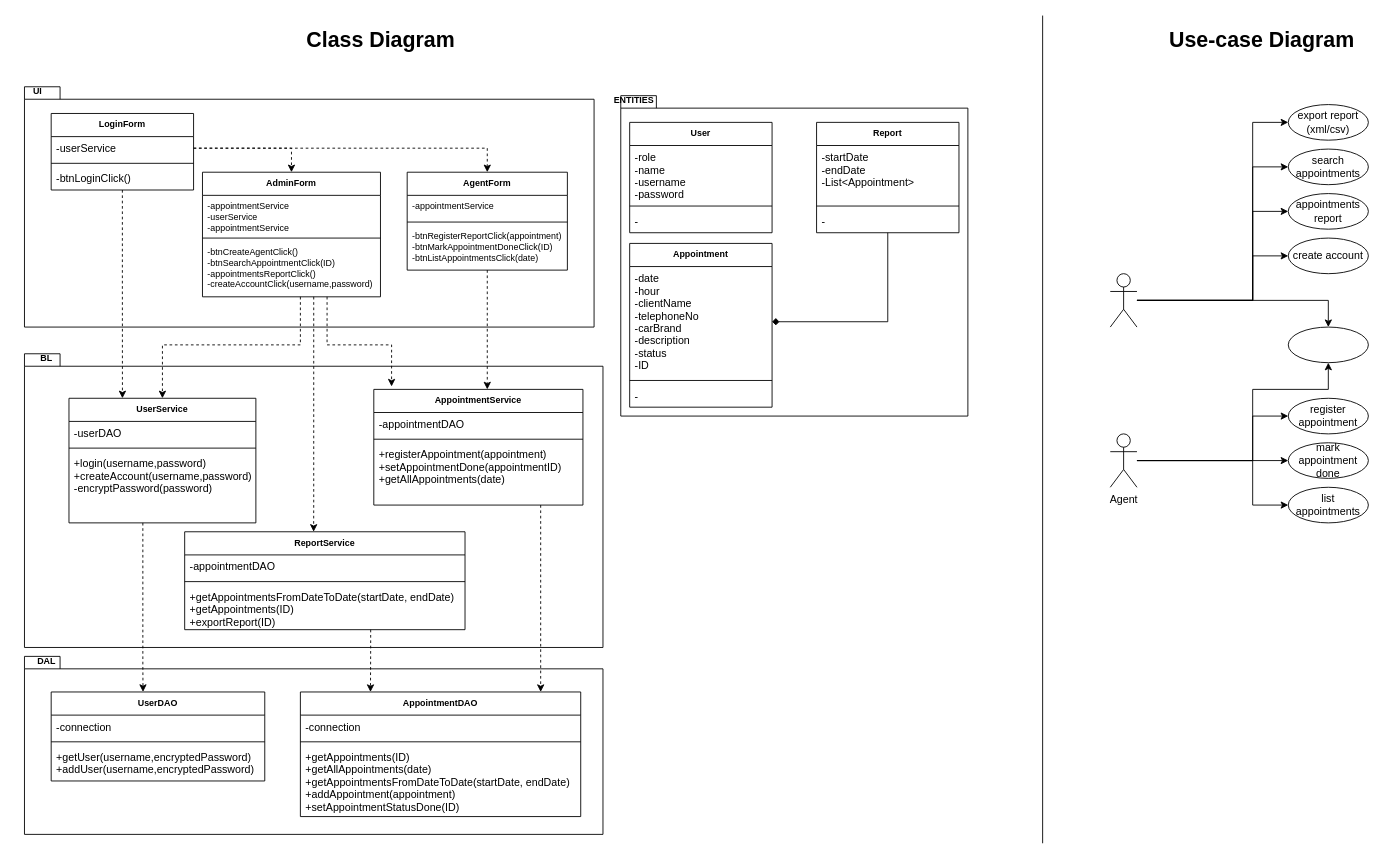
This 1384x859 diagram has some shape labels left out. Each missing label, with the centre of its shape:
Administrator: point 1123,300
login: point 1327,344
